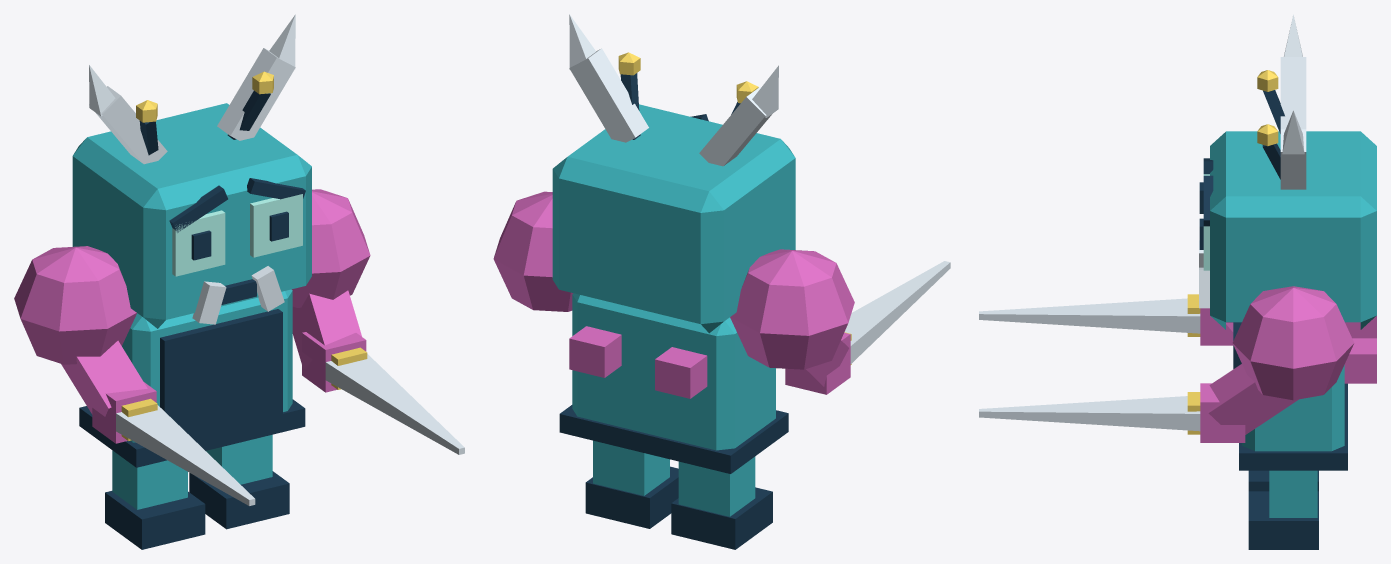
The model's file is warlord_r12.glb.
3 views of the same model, side by side, from view 1: azimuth 30°, elevation 25°; view 2: azimuth 150°, elevation 25°; view 3: azimuth 270°, elevation 25° (orthographic). The views are drawn at different scales.
Visible parts, largest first — view 1: warlord_r12_mesh; view 2: warlord_r12_mesh; view 3: warlord_r12_mesh.
Boxes of the visible parts, bbox=[...] form: warlord_r12_mesh: bbox=[14, 14, 464, 549]; warlord_r12_mesh: bbox=[493, 14, 950, 549]; warlord_r12_mesh: bbox=[979, 14, 1376, 549].
Size of the model in its own units: 2.72 by 3.6 by 2.86.
1 material, 1 textured.
